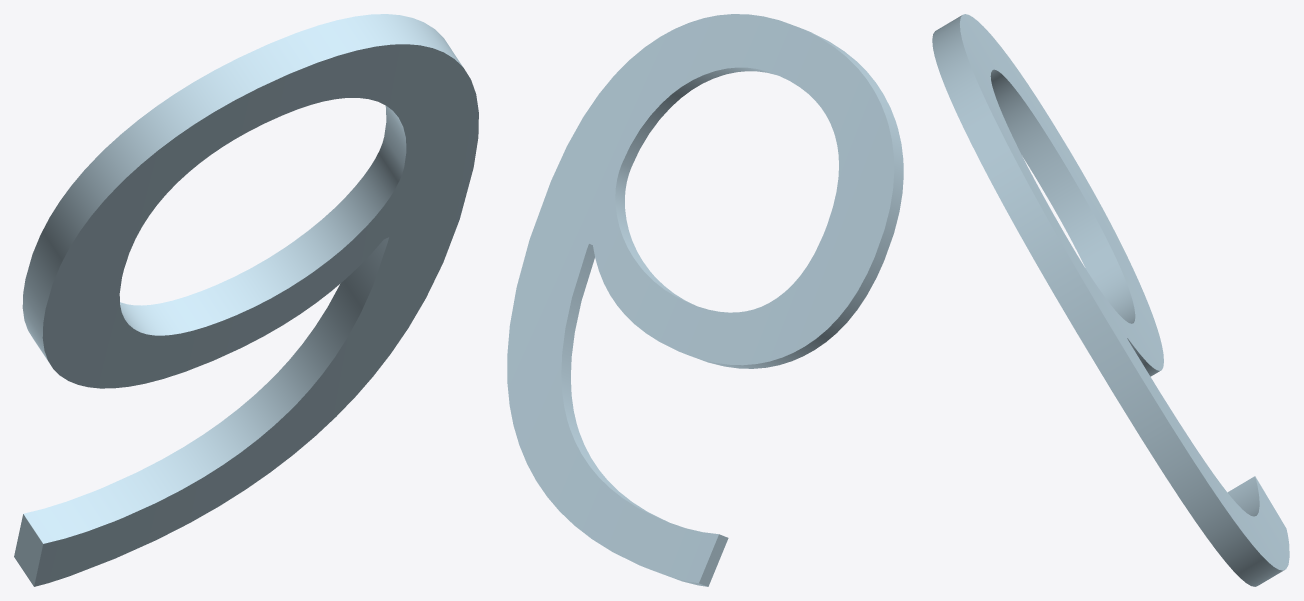
The model's file is Number_6.gltf.
The picture shows the model from 3 angles, left to right: view 1: azimuth 30°, elevation 25°; view 2: azimuth 150°, elevation 25°; view 3: azimuth 270°, elevation 25°; orthographic projection. The views are drawn at different scales.
Parts seen in each view (by area): view 1: Sub_2_Cell_1_1_Number_6; view 2: Sub_2_Cell_1_1_Number_6; view 3: Sub_2_Cell_1_1_Number_6.
Boxes of the visible parts, x1,y1,x2,y2 form: Sub_2_Cell_1_1_Number_6: (14, 14, 478, 586); Sub_2_Cell_1_1_Number_6: (507, 14, 903, 586); Sub_2_Cell_1_1_Number_6: (932, 14, 1289, 586).
Size of the model in its own units: 0.0172 by 0.0237 by 0.014.
